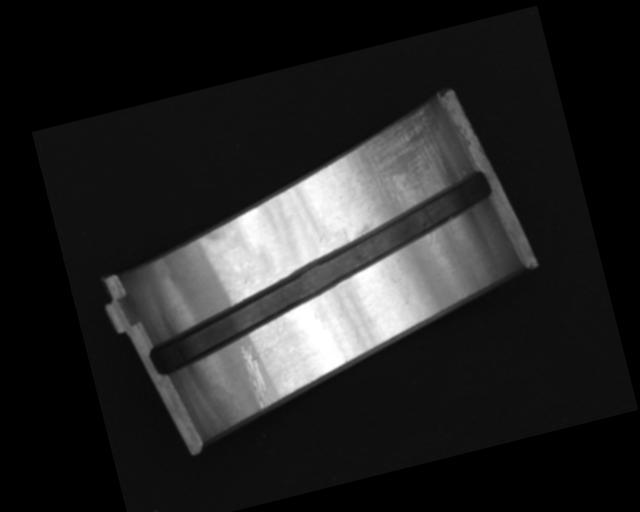gap: (125, 169, 514, 378)
nick: (238, 341, 273, 414)
scratch: (330, 102, 463, 237)
